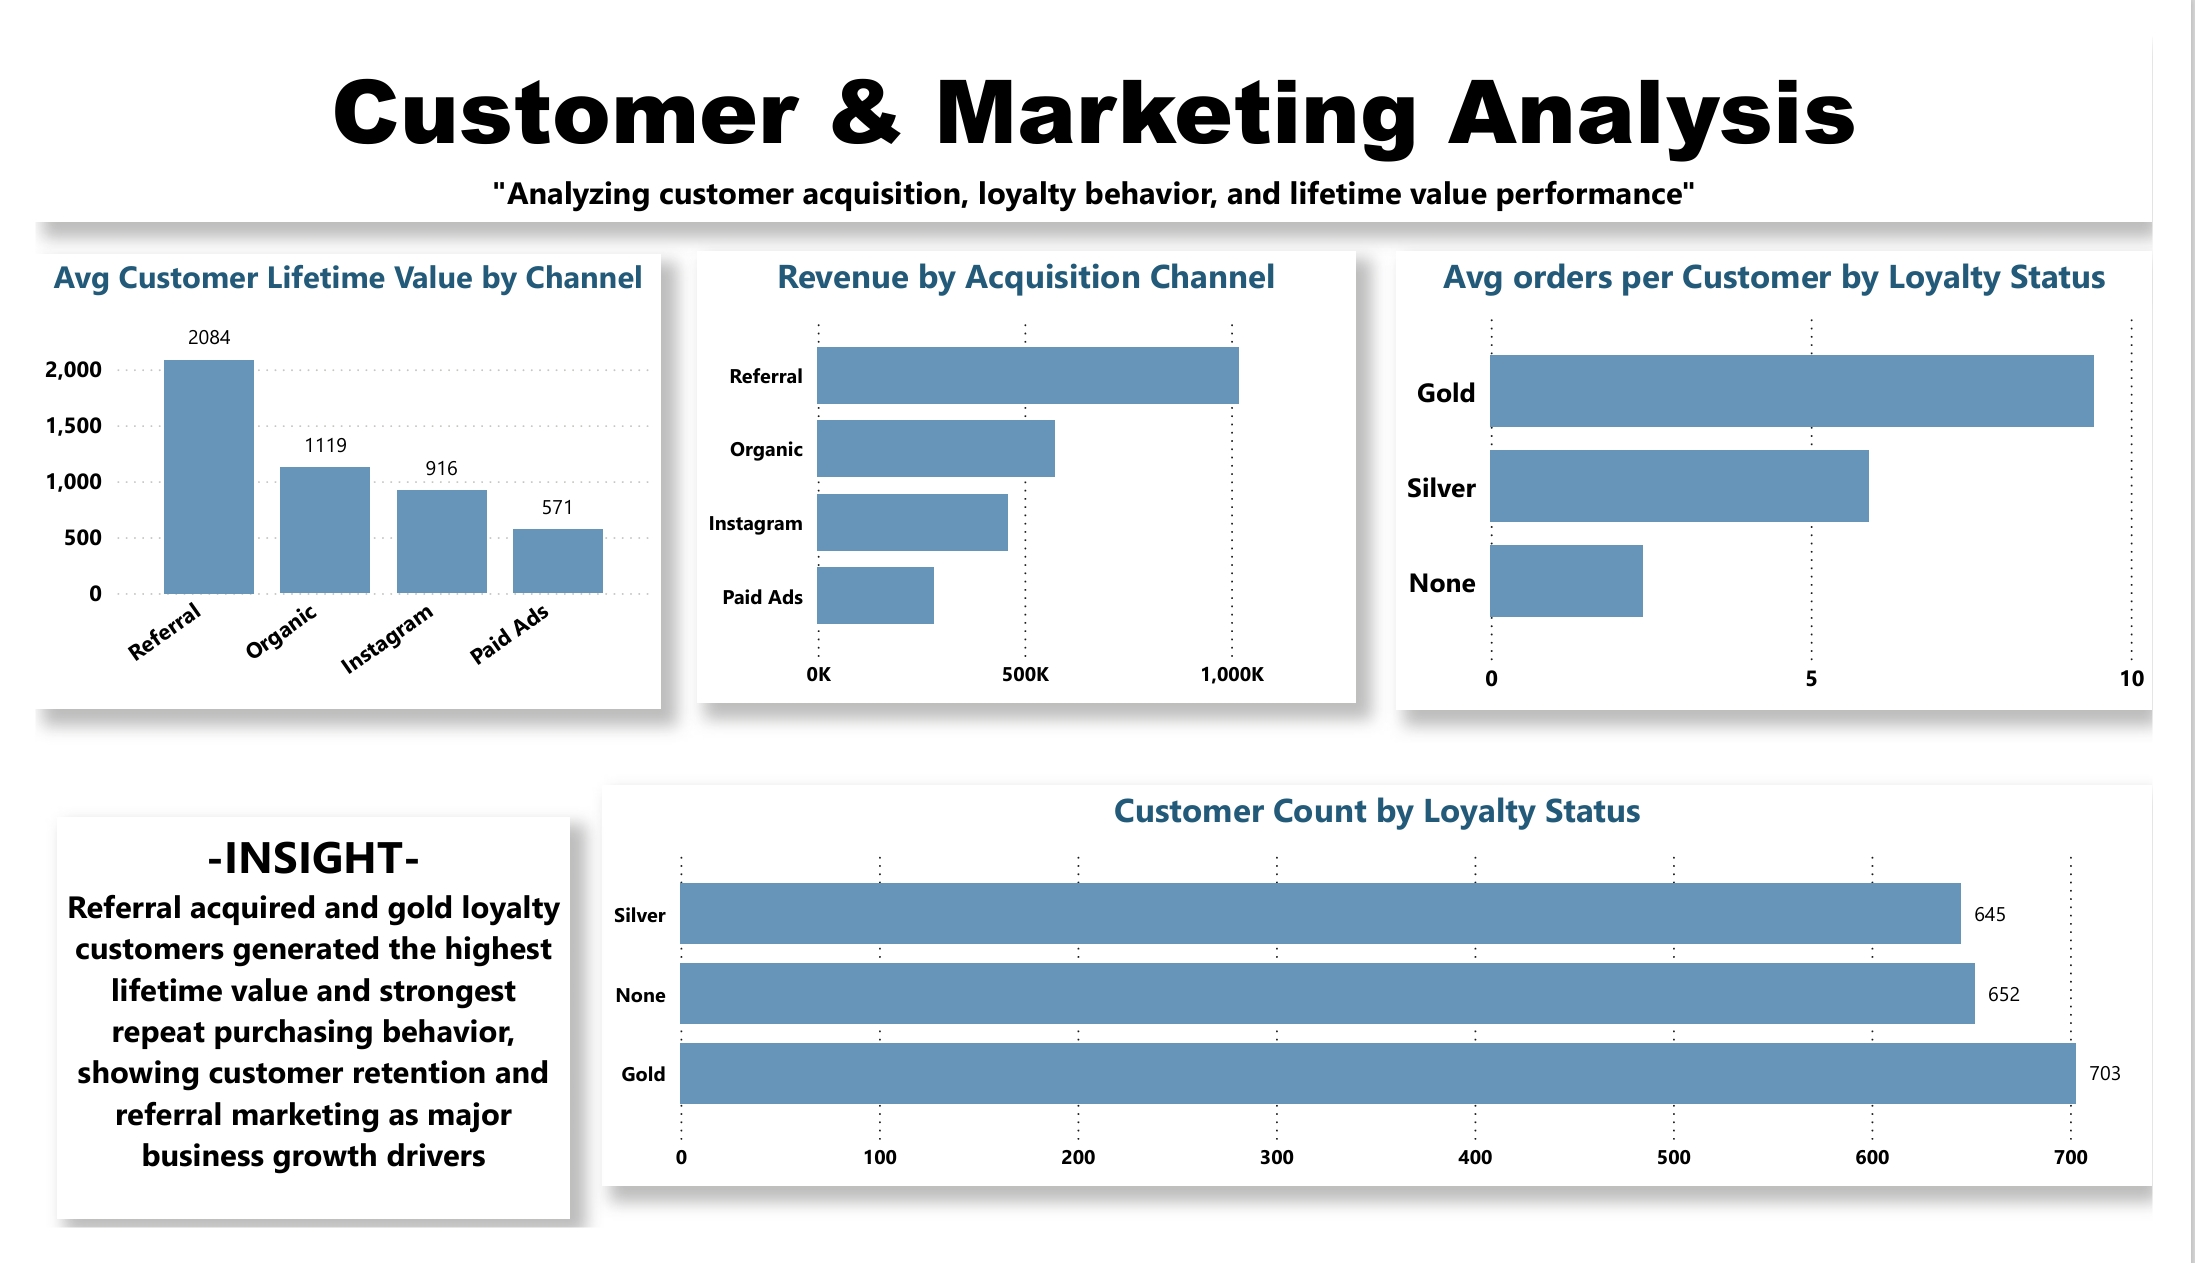

Layout of this report page (visuals, bound fields, positions):
{"tool":"powerbi","page":{"name":"Customer & Marketing Analysis","canvas":[1280,720],"ordinal":1},"visuals":[{"type":"textbox","box":[0,0,1280,111.7],"z":0},{"type":"clusteredBarChart","title":"Revenue by Acquisition Channel","fields":{"Category":["customers.acquisition_channel"],"Y":["KPI_Measures.Total Revenue"]},"box":[400,130,398.3,273.3],"z":1000},{"type":"clusteredBarChart","title":"Customer Count by Loyalty Status","fields":{"Category":["customers.loyalty_status"],"Y":["KPI_Measures.Customer Count"]},"box":[343.3,453.3,936.7,241.7],"z":2000},{"type":"clusteredColumnChart","title":"Avg Customer Lifetime Value by Channel","fields":{"Category":["customers.acquisition_channel"],"Y":["KPI_Measures.Avg Customer Lifetime Value"]},"box":[0,131.7,378.3,275],"z":3000},{"type":"clusteredBarChart","title":"Avg orders per Customer by Loyalty Status","fields":{"Category":["customers.loyalty_status"],"Y":["KPI_Measures.Avg Orders Per Customer"]},"box":[823.3,130,456.7,276.7],"z":4000},{"type":"textbox","box":[13.3,471.7,310,243.3],"z":5000}]}

Visuals, with their boxes in screenshot pixels (x1, y1, x2, y2), scaled from the page's 1280x720 canvas onto the 2195x1263 screenshot:
textbox: bbox(0, 0, 2194, 196)
"Revenue by Acquisition Channel" clusteredBarChart: bbox(686, 228, 1369, 707)
"Customer Count by Loyalty Status" clusteredBarChart: bbox(589, 795, 2194, 1219)
"Avg Customer Lifetime Value by Channel" clusteredColumnChart: bbox(0, 231, 649, 713)
"Avg orders per Customer by Loyalty Status" clusteredBarChart: bbox(1412, 228, 2194, 713)
textbox: bbox(23, 827, 554, 1254)
